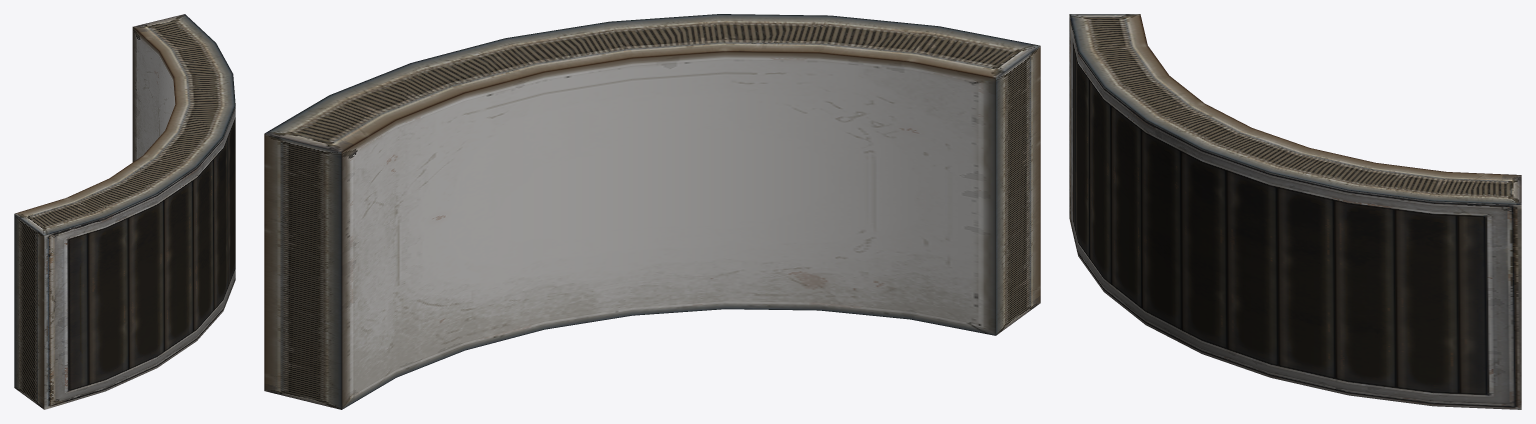
Rendered from scifi_wall_curve1_half_4.FBX.
3 views of the same model, side by side, from view 1: azimuth 30°, elevation 25°; view 2: azimuth 150°, elevation 25°; view 3: azimuth 270°, elevation 25° (orthographic). The views are drawn at different scales.
Visible parts, largest first — view 1: half013; view 2: half013; view 3: half013.
Boxes of the visible parts, left/top/right/bottom form: half013: left=14, top=14, right=235, bottom=409; half013: left=264, top=14, right=1040, bottom=409; half013: left=1069, top=14, right=1521, bottom=409.
Bounding box in the file's own units: 254 × 127 × 254.
